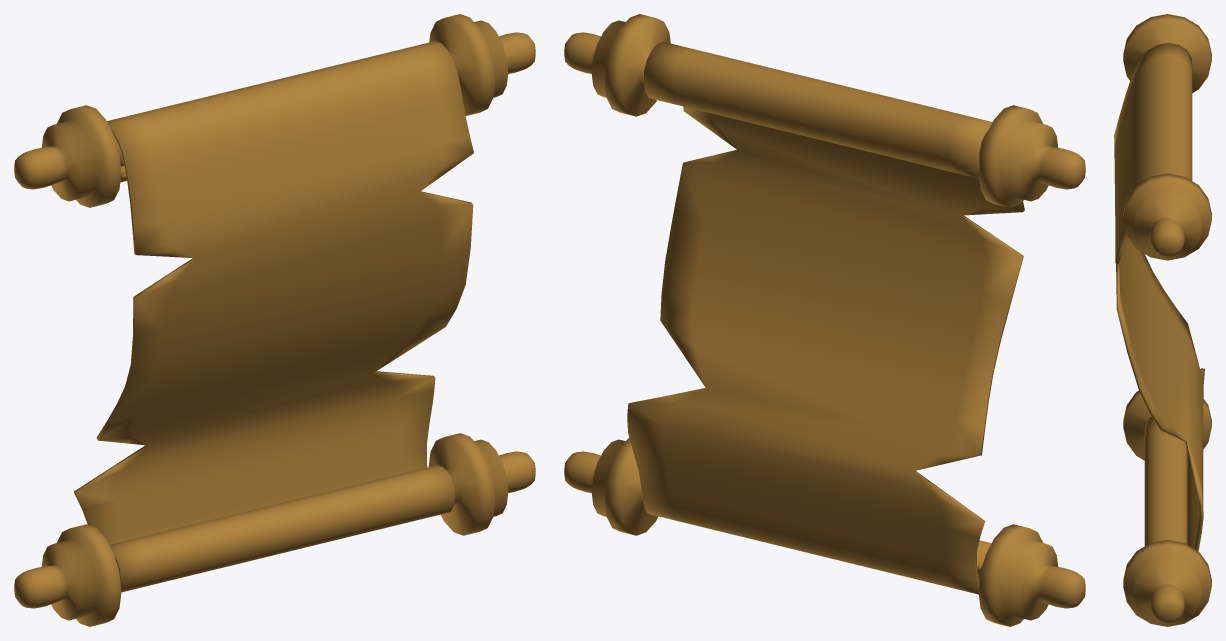
The model's file is manuscript1_01.FBX.
The picture shows the model from 3 angles, left to right: view 1: azimuth 30°, elevation 25°; view 2: azimuth 150°, elevation 25°; view 3: azimuth 270°, elevation 25°; orthographic projection. The views are drawn at different scales.
Parts seen in each view (by area): view 1: manuscript1; view 2: manuscript1; view 3: manuscript1.
Boxes of the visible parts, left/top/right/bottom form: manuscript1: left=14, top=14, right=535, bottom=626; manuscript1: left=564, top=14, right=1085, bottom=626; manuscript1: left=1114, top=14, right=1211, bottom=626.
Bounding box in the file's own units: 154 × 146 × 29.02.
